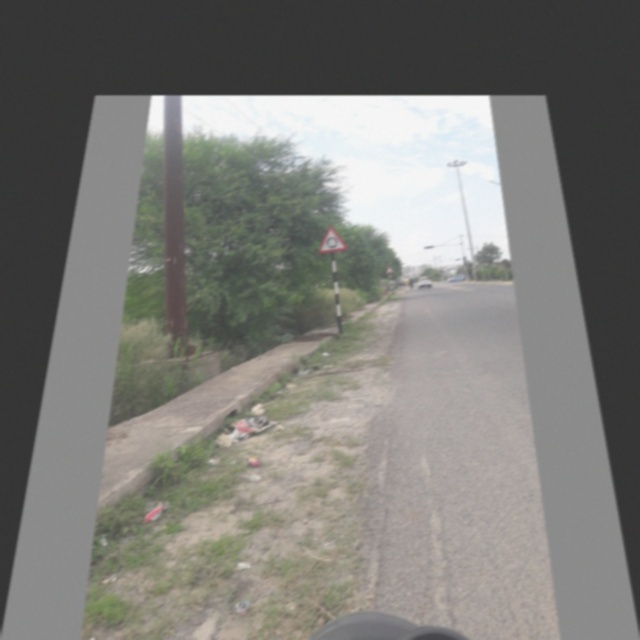Round_About: (313, 220, 354, 253)
